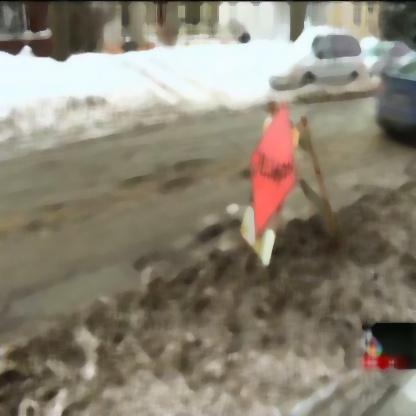Potholes: (124, 154, 216, 206), (26, 209, 58, 245)
